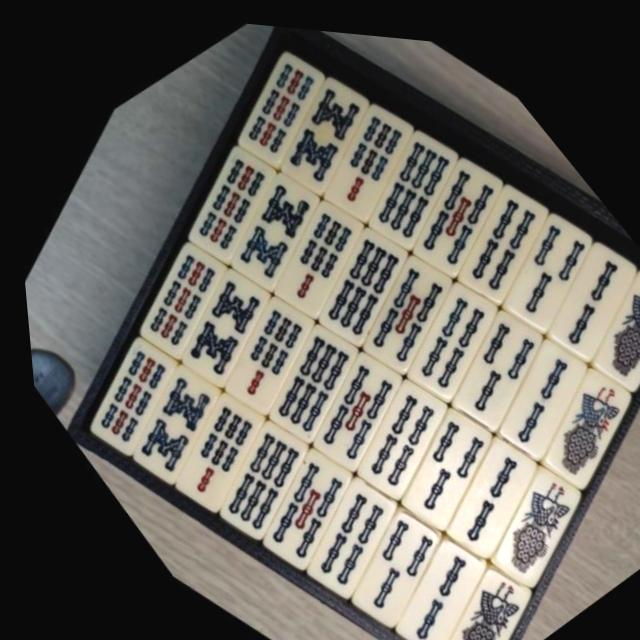sb1: (444, 435, 605, 592), (495, 335, 640, 492), (392, 537, 551, 640), (545, 233, 640, 386)
sb2: (450, 309, 609, 464), (400, 409, 558, 563), (501, 208, 640, 364), (345, 509, 508, 640)
sb3: (351, 380, 515, 539), (404, 279, 567, 437), (302, 480, 463, 638), (457, 178, 618, 336)
sb4: (258, 453, 417, 609), (361, 254, 518, 407), (414, 156, 569, 307), (312, 357, 466, 507)
sb5: (213, 424, 375, 582), (266, 327, 423, 480), (370, 130, 524, 279), (320, 230, 473, 379)
sb6: (170, 398, 329, 553), (325, 104, 480, 256), (273, 203, 428, 354), (224, 301, 377, 450)
sb7: (128, 373, 284, 526), (179, 274, 334, 425), (232, 180, 382, 325), (284, 81, 433, 226)
sb8: (84, 346, 243, 501), (186, 148, 342, 300), (238, 52, 390, 200), (138, 251, 287, 396)
sb9: (45, 323, 197, 471), (145, 127, 295, 273), (198, 30, 344, 173), (98, 226, 245, 368)
